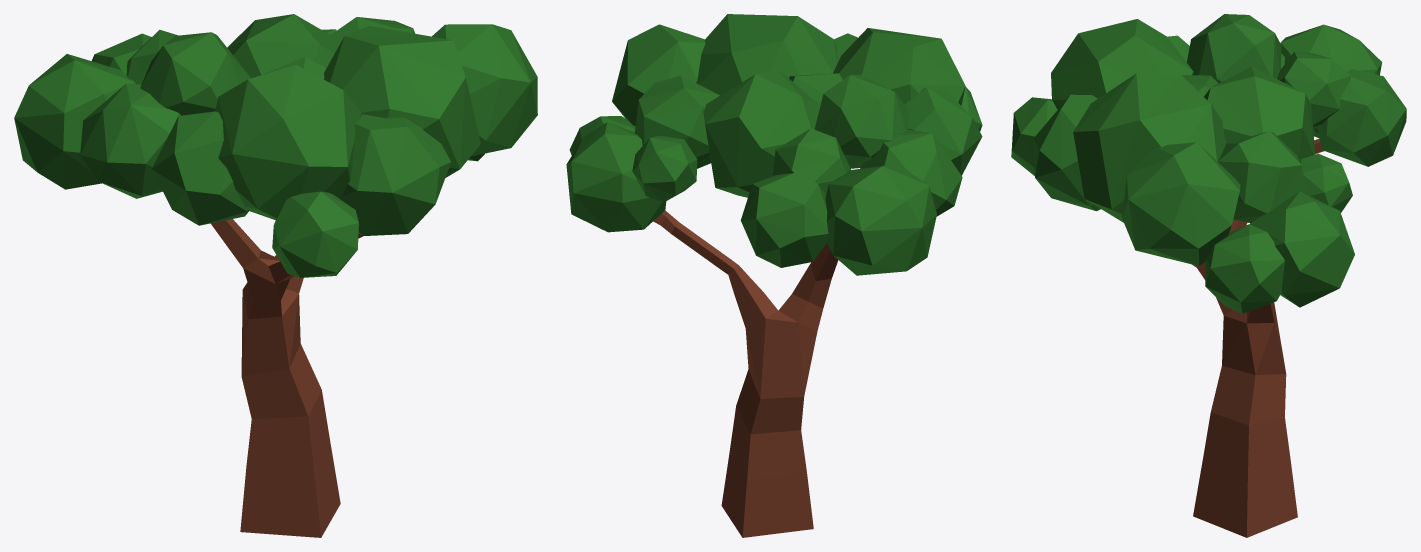
Rendered from lowpoly_tree_1.glb.
3 views of the same model, side by side, from view 1: azimuth 30°, elevation 25°; view 2: azimuth 150°, elevation 25°; view 3: azimuth 270°, elevation 25° (orthographic). The views are drawn at different scales.
Parts seen in each view (by area): view 1: Cube, Icosphere.022, Icosphere.008, Icosphere.003, Icosphere.010, Icosphere.007, Icosphere.020, Icosphere.019, Icosphere.004, Icosphere.005, Icosphere.018, Icosphere.015 (+2 smaller); view 2: Cube, Icosphere.010, Icosphere.018, Icosphere.008, Icosphere.001, Icosphere.011, Icosphere.022, Icosphere.005, Icosphere.007, Icosphere.006, Icosphere.020, Icosphere.019 (+4 smaller); view 3: Cube, Icosphere.008, Icosphere.007, Icosphere.001, Icosphere.022, Icosphere.018, Icosphere.011, Icosphere, Icosphere.006, Icosphere.005, Icosphere.003, Icosphere.015 (+3 smaller).
Part boxes in pixels (left/top/right/bottom): Cube: left=210, top=219, right=363, bottom=537; Icosphere.022: left=215, top=65, right=361, bottom=220; Icosphere.008: left=324, top=26, right=480, bottom=177; Icosphere.003: left=341, top=114, right=450, bottom=235; Icosphere.010: left=14, top=54, right=135, bottom=189; Icosphere.007: left=432, top=24, right=537, bottom=156; Icosphere.020: left=80, top=83, right=180, bottom=198; Icosphere.019: left=151, top=111, right=249, bottom=225; Icosphere.004: left=272, top=191, right=358, bottom=277; Icosphere.005: left=140, top=32, right=250, bottom=115; Icosphere.018: left=227, top=14, right=340, bottom=78; Icosphere.015: left=126, top=29, right=178, bottom=84; Cube: left=653, top=169, right=850, bottom=537; Icosphere.010: left=825, top=165, right=936, bottom=275; Icosphere.018: left=703, top=69, right=819, bottom=197; Icosphere.008: left=696, top=14, right=837, bottom=95; Icosphere.001: left=566, top=122, right=666, bottom=232; Icosphere.011: left=740, top=172, right=828, bottom=267; Icosphere.022: left=833, top=28, right=965, bottom=105; Icosphere.005: left=814, top=74, right=909, bottom=168; Icosphere.007: left=612, top=24, right=705, bottom=126; Icosphere.006: left=635, top=75, right=719, bottom=168; Icosphere.020: left=860, top=130, right=962, bottom=216; Icosphere.019: left=904, top=87, right=982, bottom=175; Cube: left=1192, top=138, right=1324, bottom=537; Icosphere.008: left=1073, top=73, right=1226, bottom=222; Icosphere.007: left=1121, top=142, right=1240, bottom=265; Icosphere.001: left=1250, top=191, right=1354, bottom=307; Icosphere.022: left=1051, top=19, right=1193, bottom=109; Icosphere.018: left=1204, top=66, right=1315, bottom=160; Icosphere.011: left=1317, top=69, right=1406, bottom=166; Icosphere: left=1205, top=224, right=1284, bottom=313; Icosphere.006: left=1218, top=131, right=1307, bottom=222; Icosphere.005: left=1187, top=14, right=1281, bottom=82; Icosphere.003: left=1033, top=94, right=1100, bottom=211; Icosphere.015: left=1277, top=51, right=1350, bottom=129.
Size of the model in its own units: 8.54 by 9.55 by 7.47.
